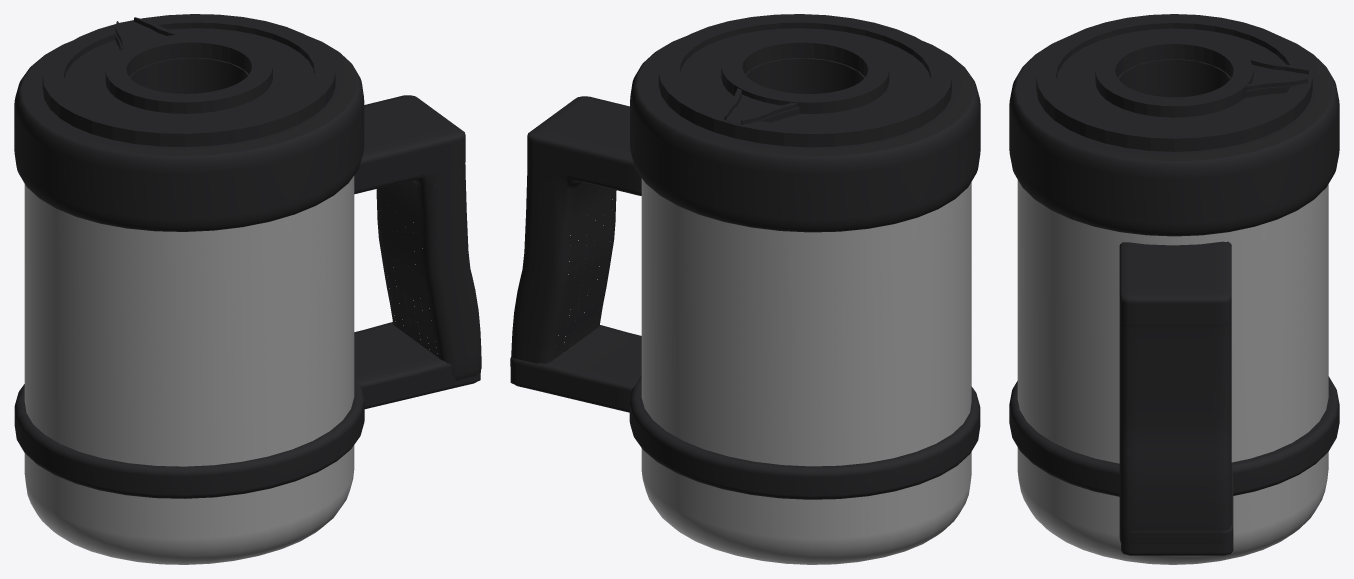
The model's file is Taza.obj.
The picture shows the model from 3 angles, left to right: view 1: azimuth 30°, elevation 25°; view 2: azimuth 150°, elevation 25°; view 3: azimuth 270°, elevation 25°; orthographic projection.
Visible parts, largest first — view 1: Taza1:polySurface49; view 2: Taza1:polySurface49; view 3: Taza1:polySurface49.
Part boxes in pixels (left/top/right/bottom): Taza1:polySurface49: left=14, top=14, right=481, bottom=564; Taza1:polySurface49: left=510, top=14, right=980, bottom=564; Taza1:polySurface49: left=1009, top=14, right=1339, bottom=564.
Size of the model in its own units: 0.2945 by 0.2935 by 0.2013.
Materials: 2 (2 with a texture image).
